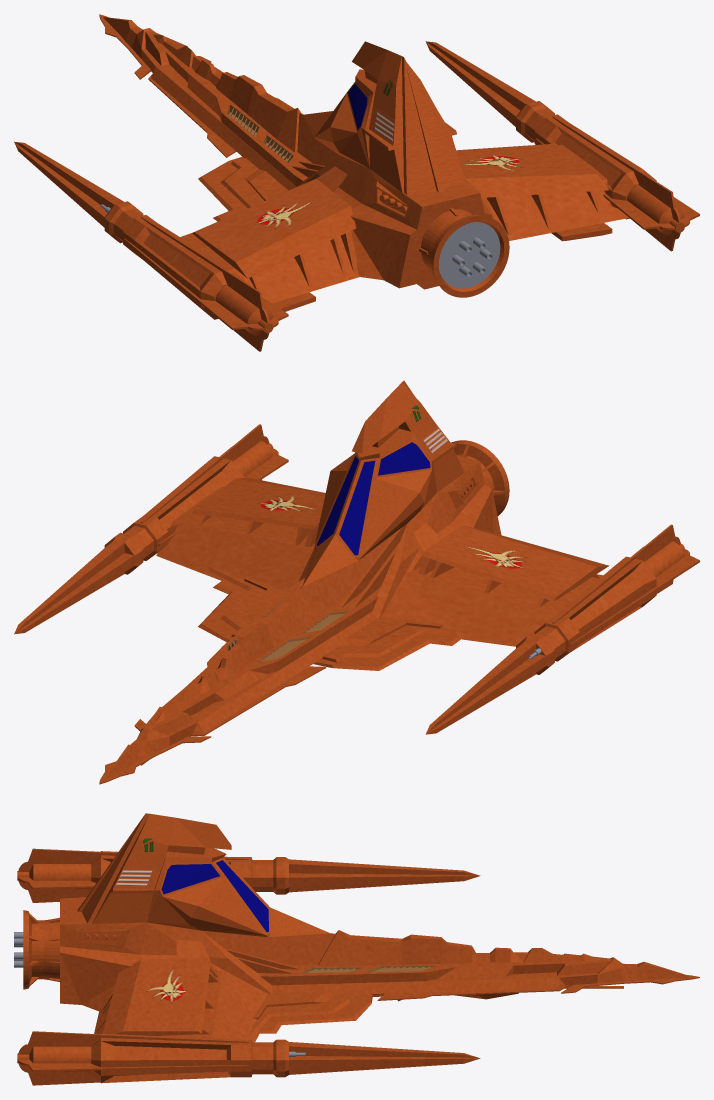
File: buckrogers.fbx
The picture shows the model from 3 angles, top to bottom: view 1: azimuth 30°, elevation 25°; view 2: azimuth 150°, elevation 25°; view 3: azimuth 270°, elevation 25°; orthographic projection. The views are drawn at different scales.
Visible parts, largest first — view 1: Figure 1; view 2: Figure 1; view 3: Figure 1.
Part boxes in pixels (<box>): Figure 1: <box>14,14,699,351</box>; Figure 1: <box>14,380,699,784</box>; Figure 1: <box>14,813,699,1085</box>.
Bounding box in the file's own units: 2.25 × 0.9396 × 3.14.
7 materials, 4 textured.
